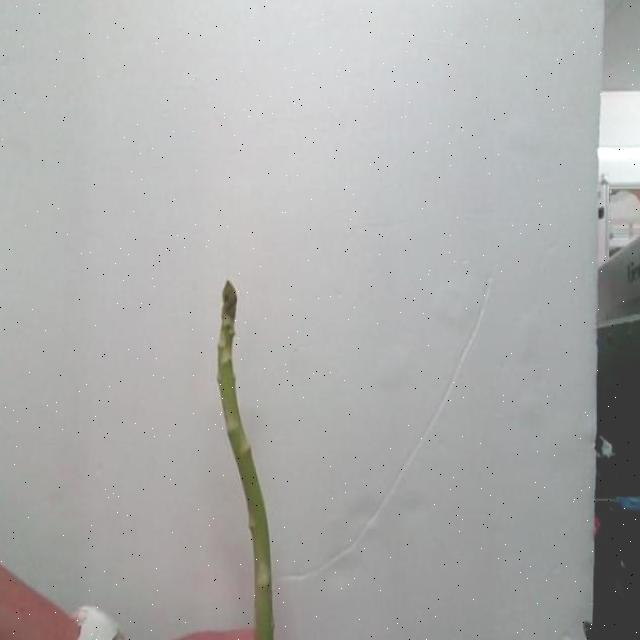aspargus: (218, 283, 277, 640)
